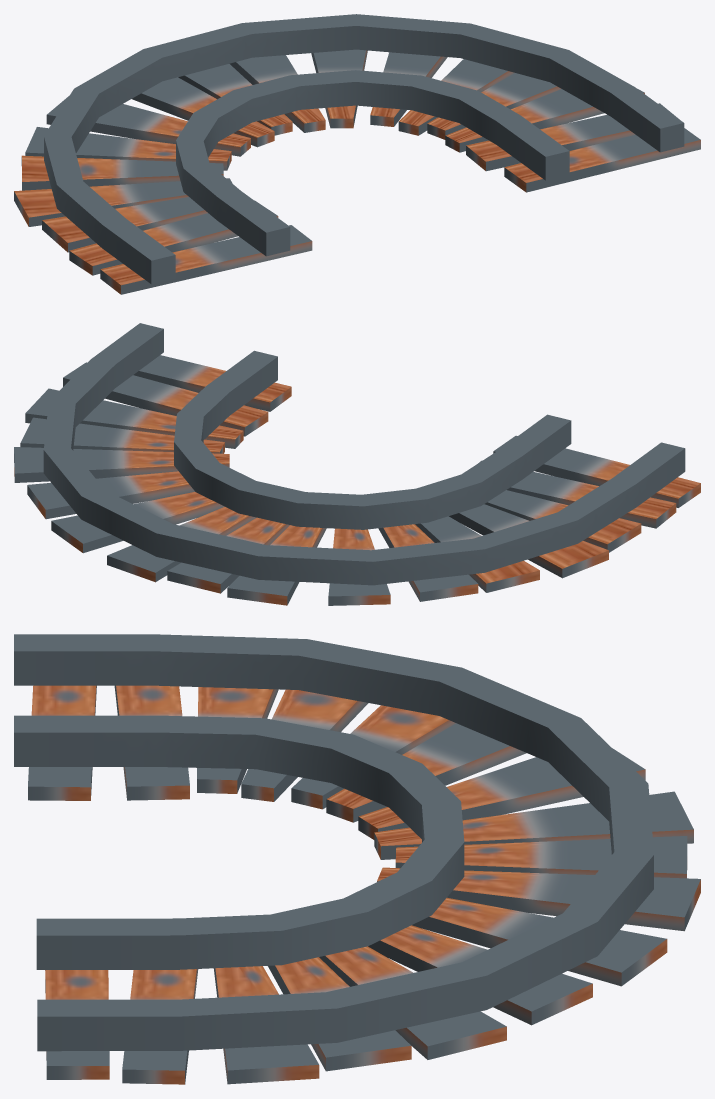
File: long_turn_r_4.fbx
3 renders of one model, top to bottom at view 1: azimuth 30°, elevation 25°; view 2: azimuth 150°, elevation 25°; view 3: azimuth 270°, elevation 25°, orthographic. The views are drawn at different scales.
Visible parts, largest first — view 1: long_turn_r_4; view 2: long_turn_r_4; view 3: long_turn_r_4.
Part boxes in pixels (x1,y1,x2,y2): long_turn_r_4: (14,14,700,294); long_turn_r_4: (14,323,700,605); long_turn_r_4: (14,634,700,1084).
Size of the model in its own units: 38.37 by 2.08 by 26.51.
